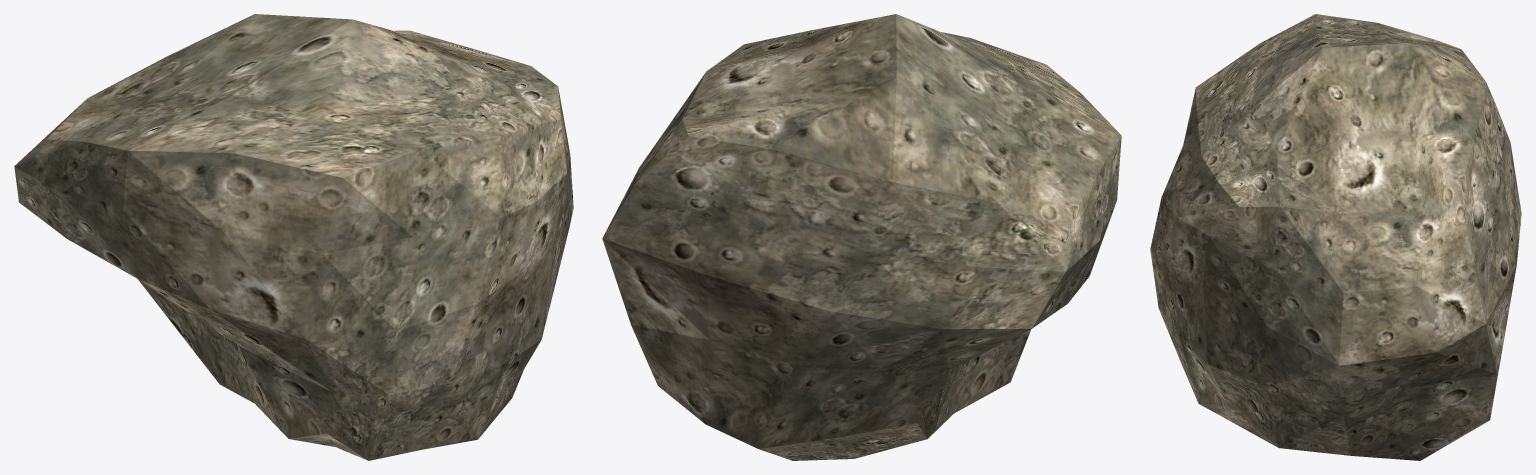
The model's file is asteroid_all_medium_01_l0.fbx.
3 views of the same model, side by side, from view 1: azimuth 30°, elevation 25°; view 2: azimuth 150°, elevation 25°; view 3: azimuth 270°, elevation 25° (orthographic). The views are drawn at different scales.
Parts seen in each view (by area): view 1: mesh_node; view 2: mesh_node; view 3: mesh_node.
Boxes of the visible parts, x1,y1,x2,y2 form: mesh_node: [14, 14, 573, 460]; mesh_node: [602, 14, 1121, 460]; mesh_node: [1150, 14, 1521, 460].
Bounding box in the file's own units: 63.45 × 54.3 × 48.02.
